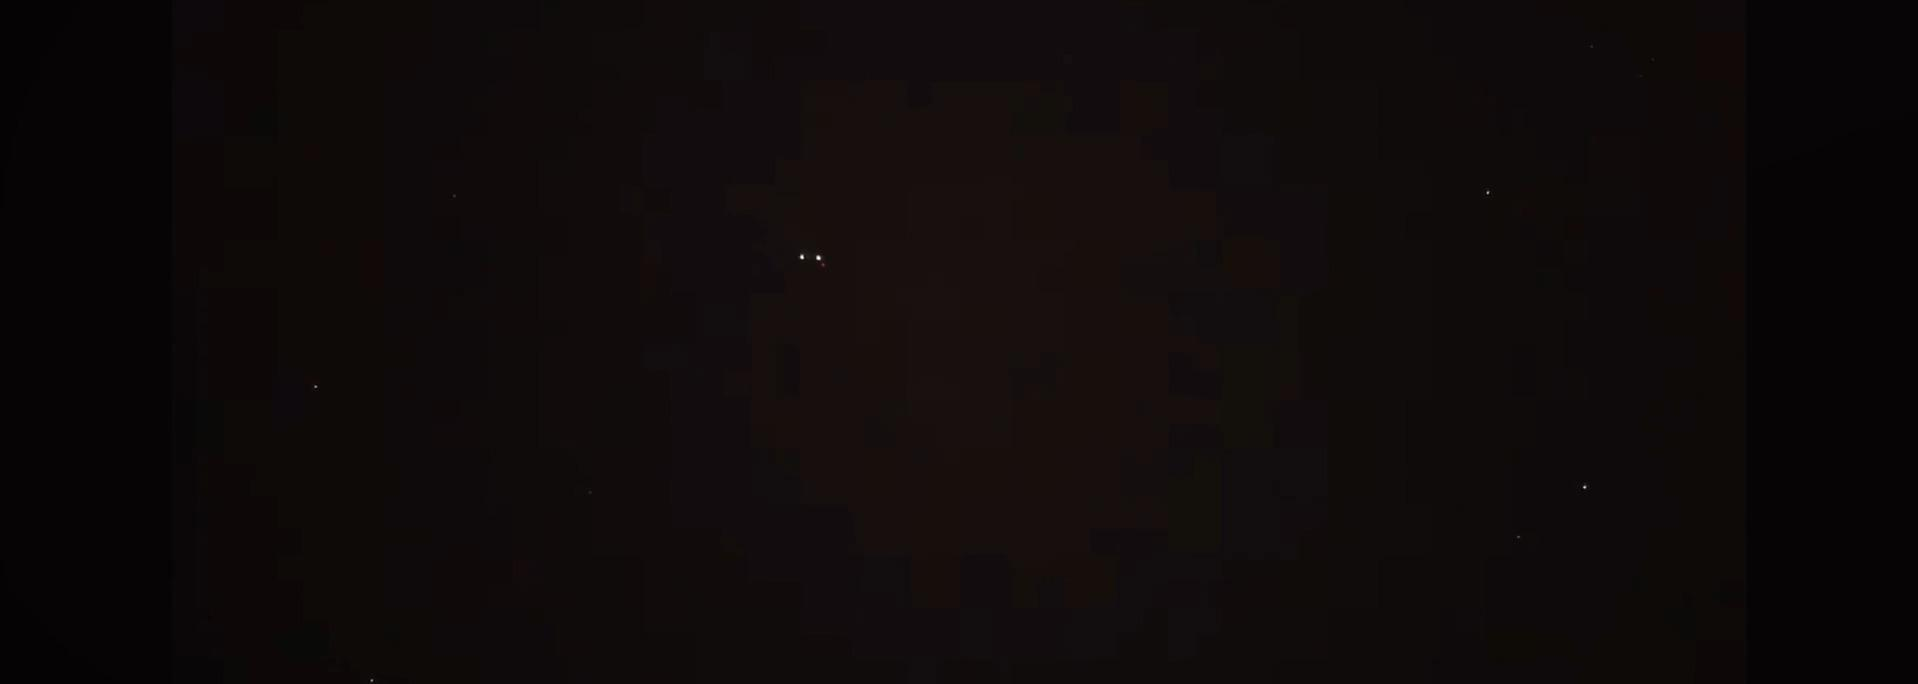Plane: (766, 241, 860, 275)
